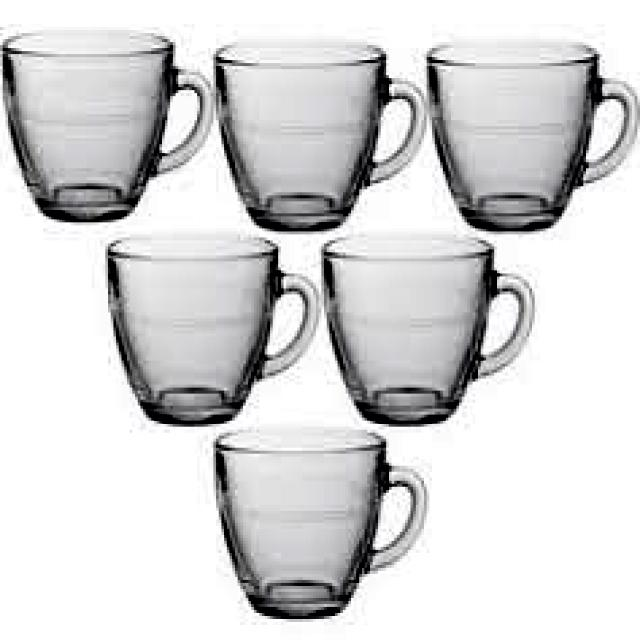Glass: (101, 226, 325, 428), (422, 35, 640, 236), (211, 32, 428, 233), (210, 426, 429, 624), (3, 28, 215, 224), (322, 236, 532, 426)
